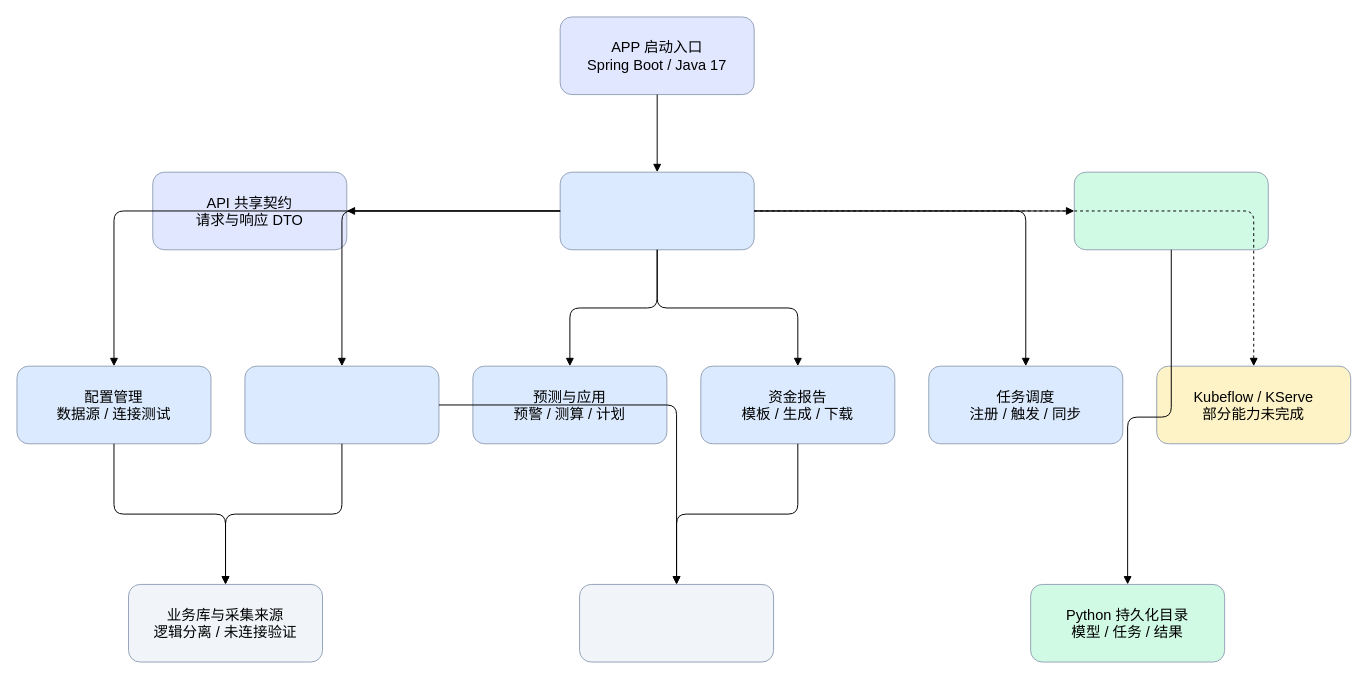
The diagram is 1368 pixels wide and 679 high, and some of its shapes have lost their labels. The box of each missing label's shape, as (x1, y1, x2, y2) in pixels:
BUSI 业务服务 24 个控制器: (559, 171, 754, 250)
Python 模型服务 FastAPI / 五类算法: (1073, 171, 1268, 250)
对象存储与文件 数据集 / 报告资产: (579, 583, 774, 662)
模型管理 数据集 / 训练 / 比较: (244, 365, 439, 444)
